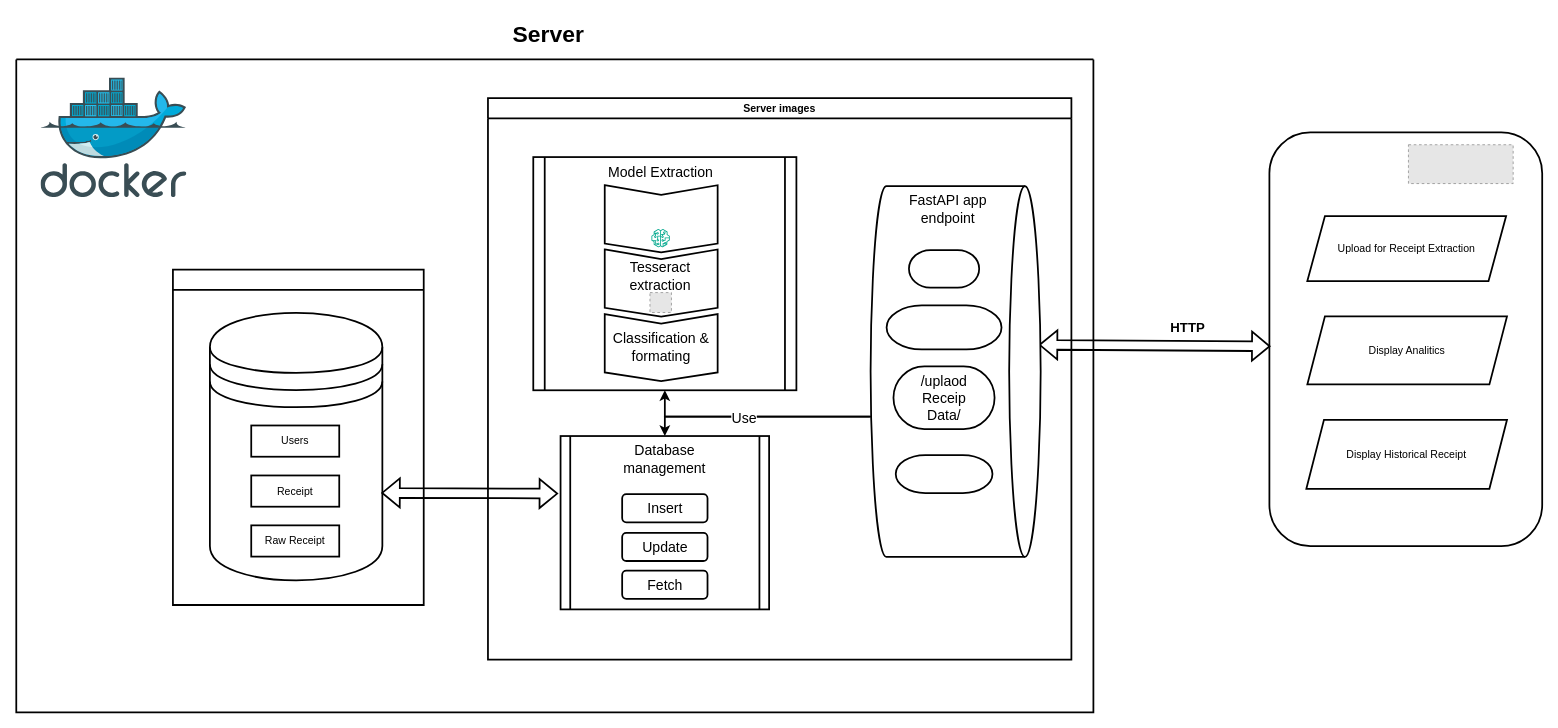
The diagram is 1558 pixels wide and 728 high, and some of its shapes have lost their labels. Grey dashed boxes stand in for pictures. The shapes that lost their labels are listed below. From the top down, each one's box as (x1, y1, x2, y2) in pixels, then its label:
(603, 184, 718, 253): Receipt section prediction
(908, 249, 980, 288): /users/
(885, 304, 1002, 350): /uploadReceipt/
(1268, 131, 1543, 546): Mobile Application
(172, 268, 424, 605): Postgres image
(894, 454, 993, 494): /getReceipt/
